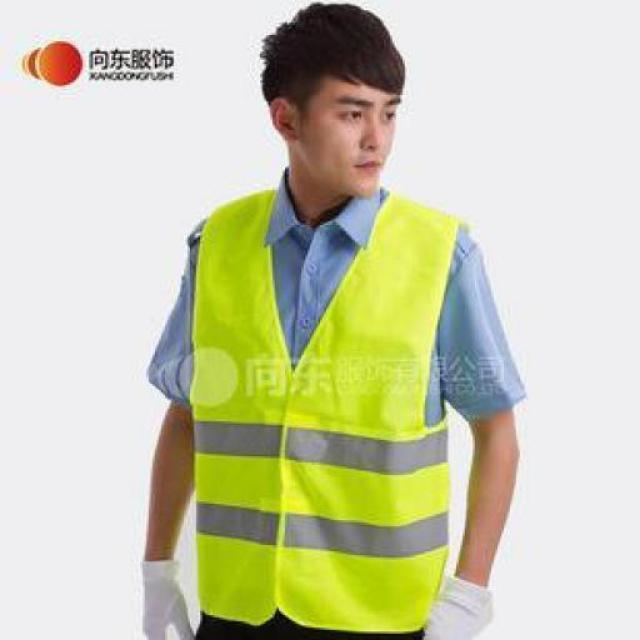vest: (186, 182, 457, 626)
